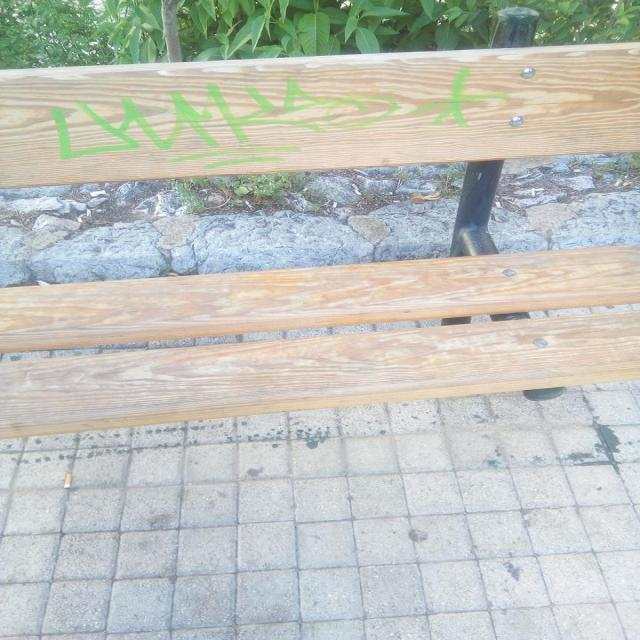nonspitting: (54, 68, 508, 169)
